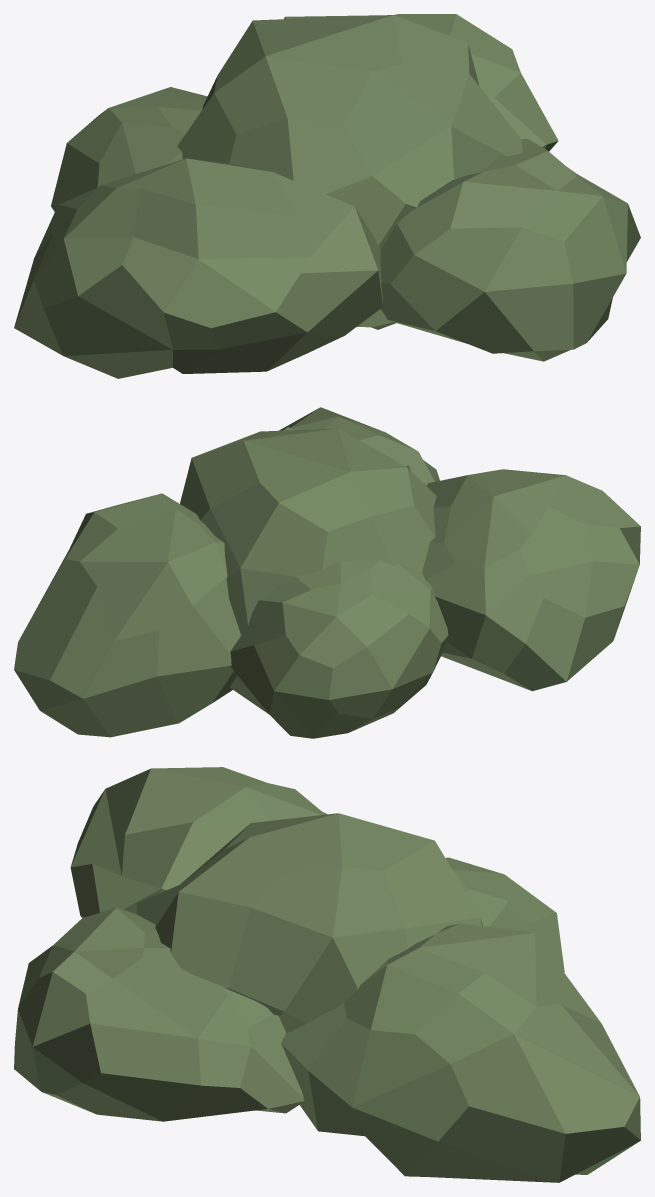
Rendered from BladerenWeenieBoom.fbx.
3 views of the same model, one above another, from view 1: azimuth 30°, elevation 25°; view 2: azimuth 150°, elevation 25°; view 3: azimuth 270°, elevation 25° (orthographic). The views are drawn at different scales.
Visible parts, largest first — view 1: polySurface3189; view 2: polySurface3189; view 3: polySurface3189.
Boxes of the visible parts, x1,y1,x2,y2 form: polySurface3189: (14,14,640,378); polySurface3189: (14,407,640,738); polySurface3189: (14,767,640,1182).
Size of the model in its own units: 872 by 857 by 413.
